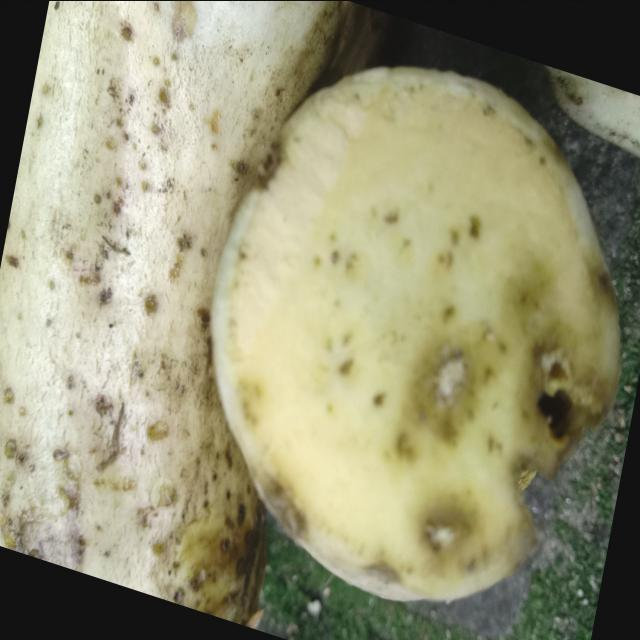Sick Sweet Potato_Tuber Rot: (211, 67, 620, 600)
